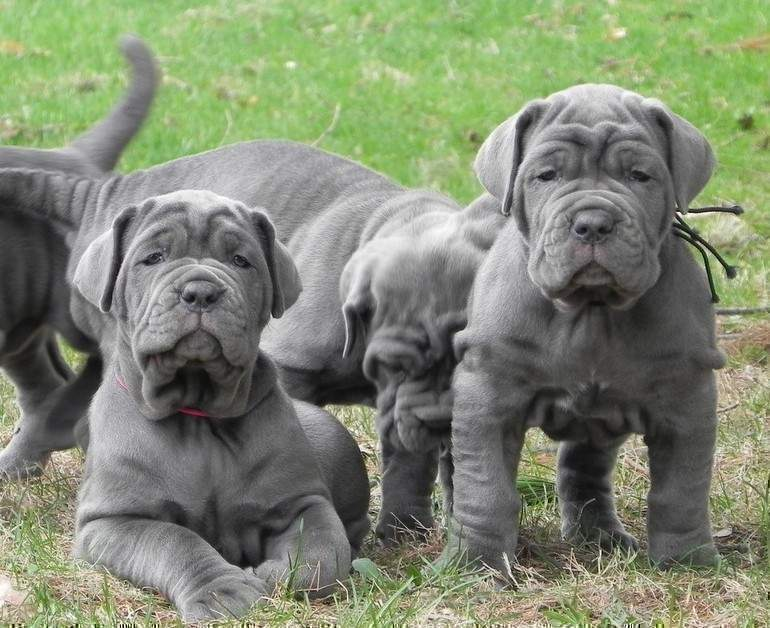neapolitan_mastiff: (2, 137, 508, 543), (419, 81, 727, 574), (71, 187, 374, 622), (0, 31, 161, 476)
